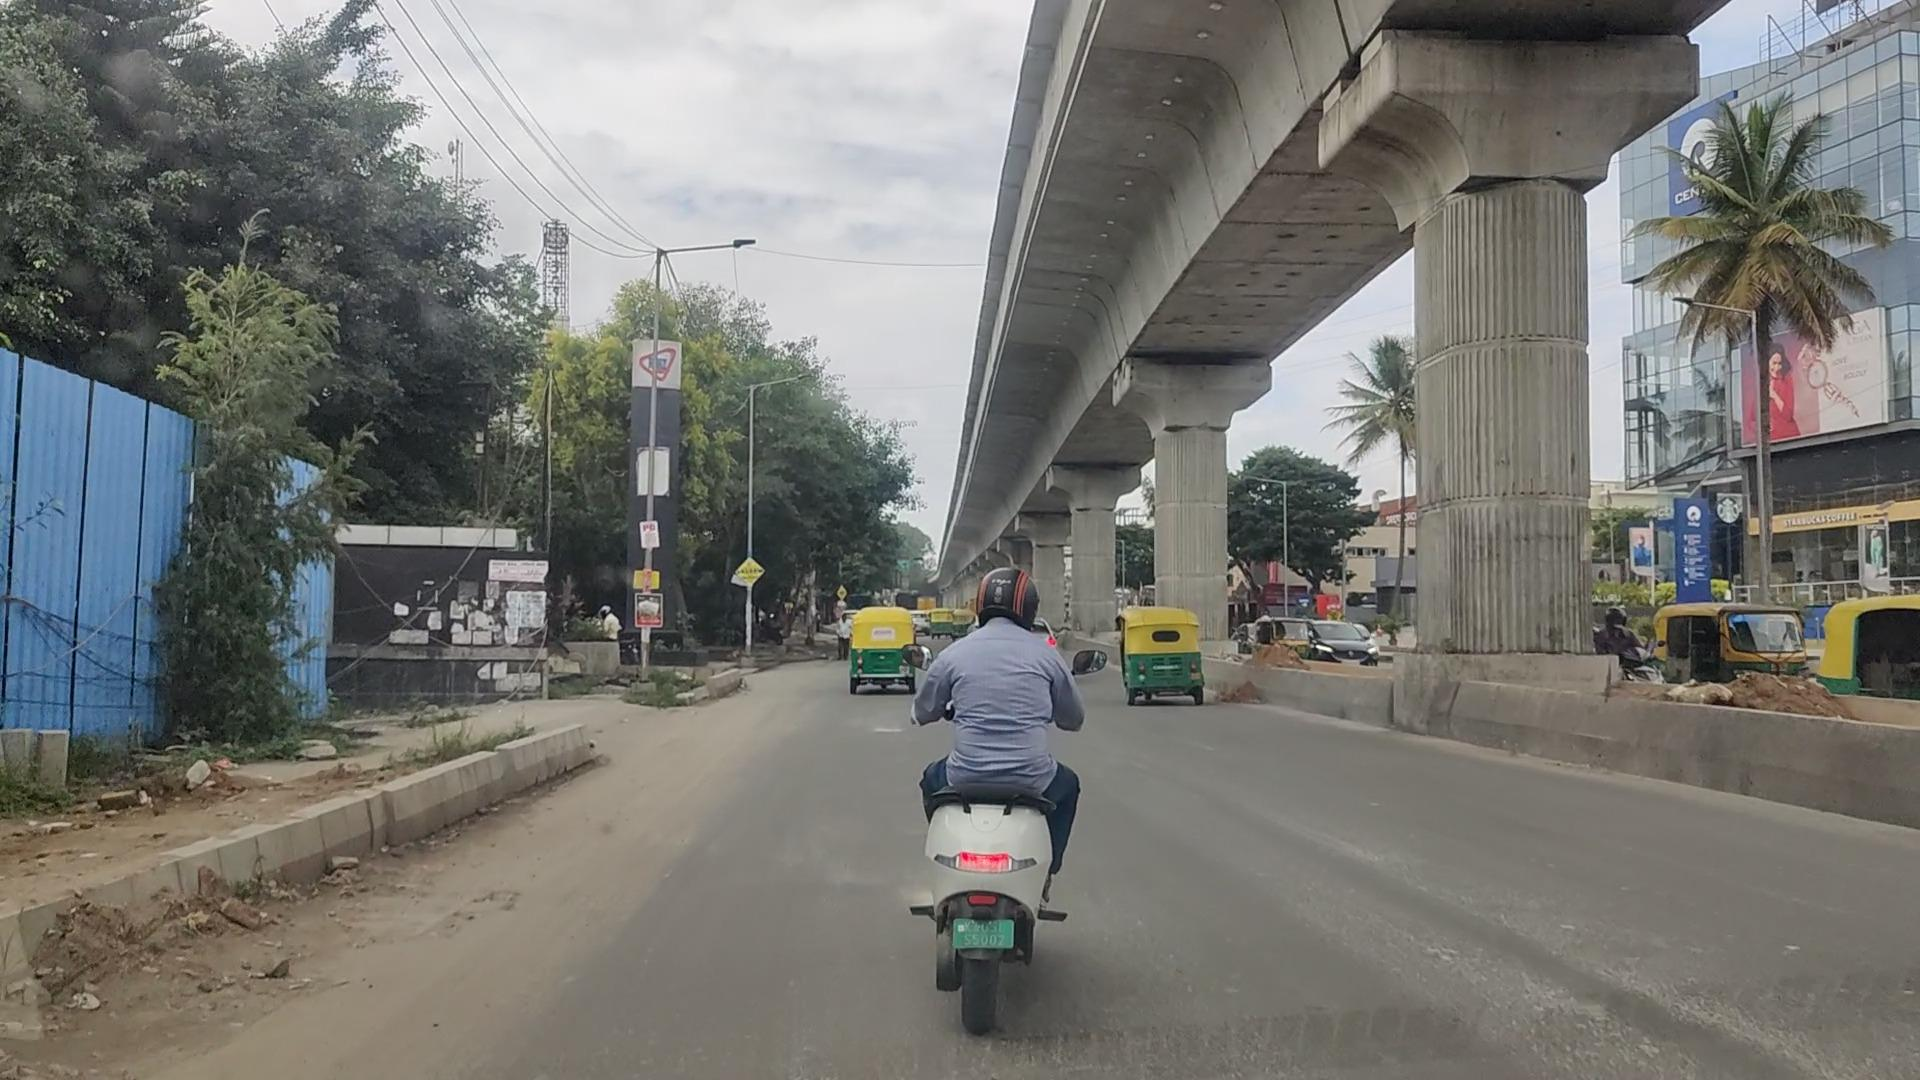LMV: (914, 546, 1097, 1044), (1125, 597, 1209, 705), (840, 608, 924, 688)
